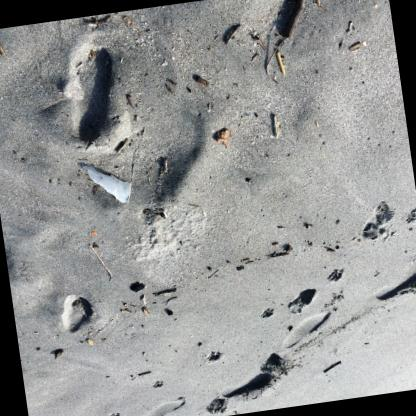Plastic: (82, 164, 129, 202), (90, 230, 96, 234)
